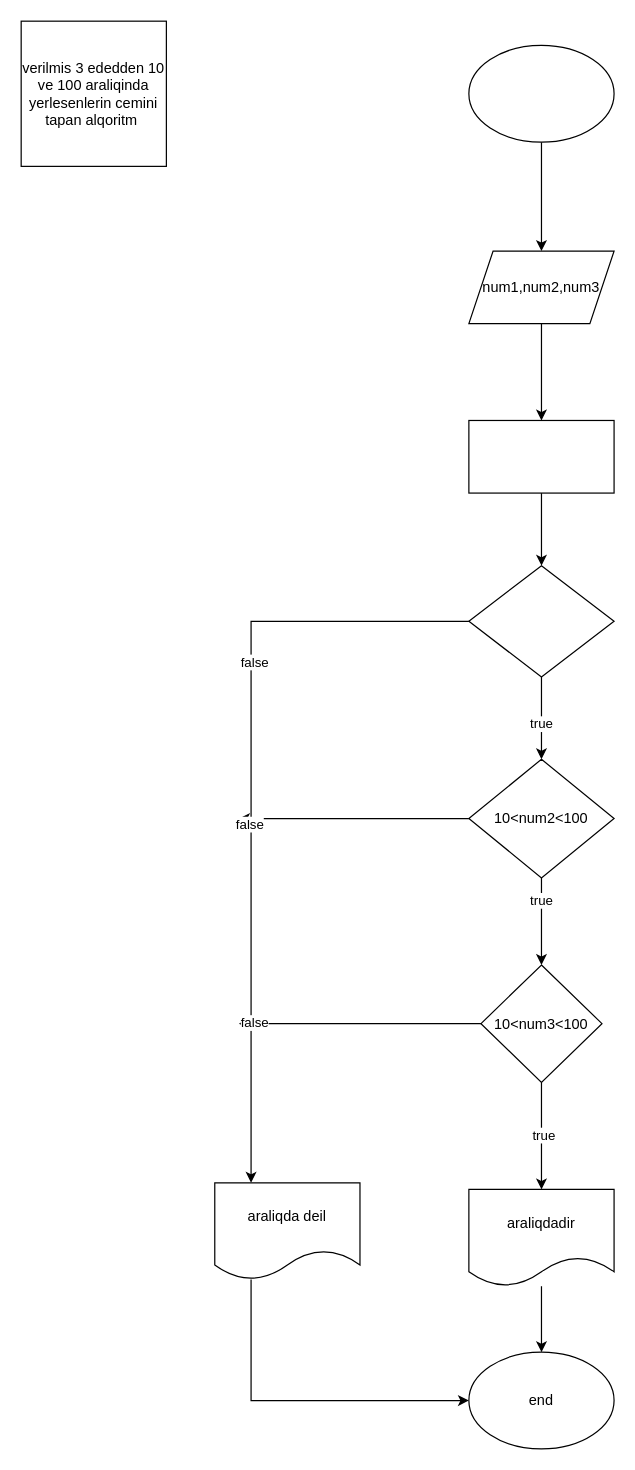
This 635x1470 diagram has some shape labels left out. The centre of each missing label's shape, as x and y in pixels:
"10<num1<100" belongs at pixel 541 620.
"start" belongs at pixel 541 93.
"sum" belongs at pixel 541 456.
